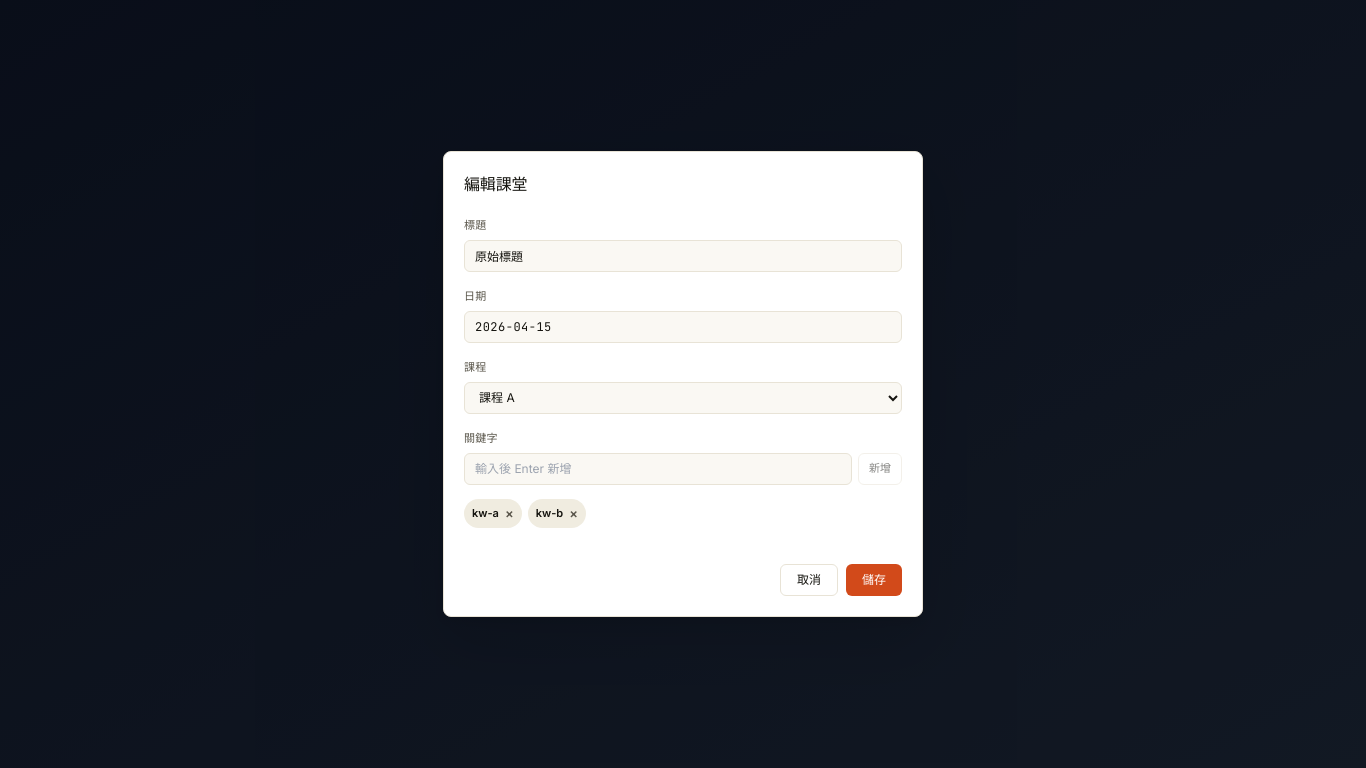
Scenario: LectureEditDialog › opens DayPicker when date button is clicked
Click the button "2026-04-15" at [513, 327], box left=464, top=311, right=902, bottom=343
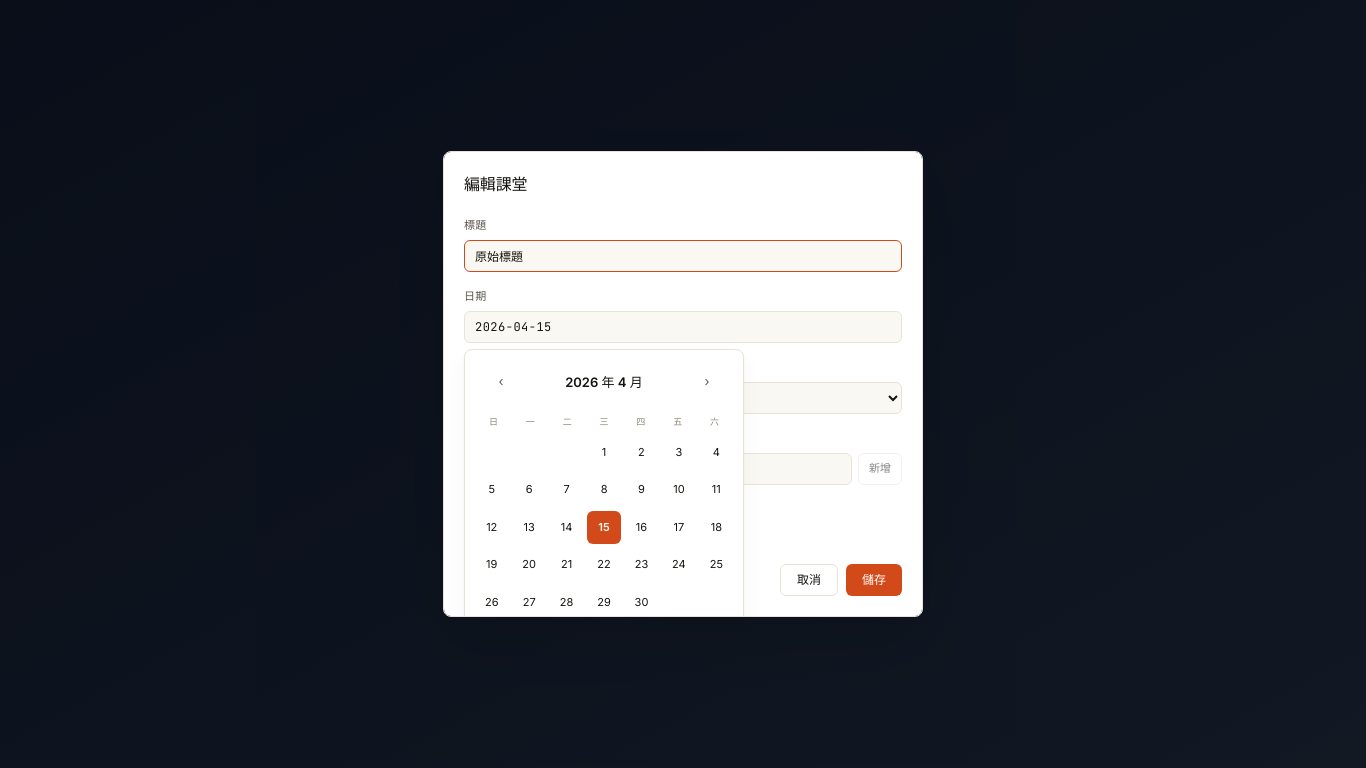
Result: the dialog named "選擇日期" is shown at left=464, top=349, right=744, bottom=617
